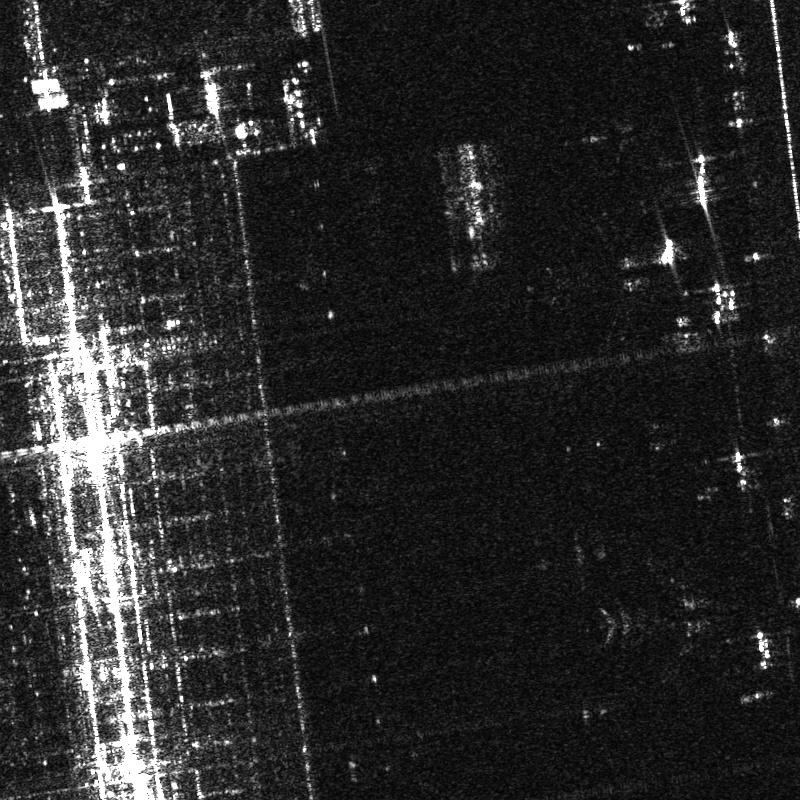A220: (572, 104, 640, 170)
Boeing787: (602, 556, 742, 678)
